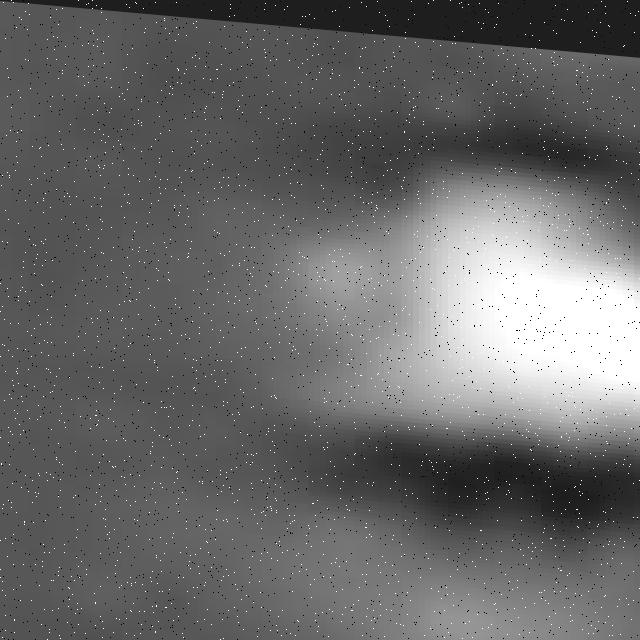person: (263, 97, 640, 448), (211, 500, 640, 640)
